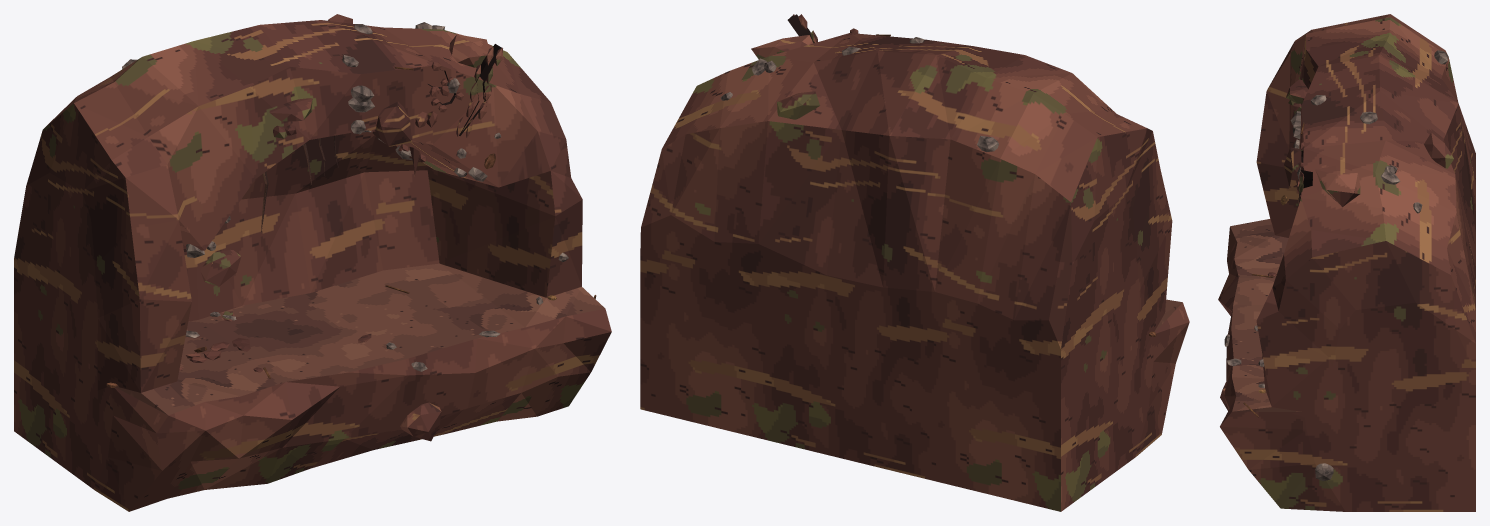
File: SM_AN05_EarthNiche.fbx
3 views of the same model, side by side, from view 1: azimuth 30°, elevation 25°; view 2: azimuth 150°, elevation 25°; view 3: azimuth 270°, elevation 25° (orthographic). The views are drawn at different scales.
Parts seen in each view (by area): view 1: AN05a_Earth, AN05a_Floor, AN05a_Props; view 2: AN05a_Earth, AN05a_Props; view 3: AN05a_Earth, AN05a_Floor, AN05a_Props.
Boxes of the visible parts, bbox=[...] form: AN05a_Earth: bbox=[14, 14, 611, 511]; AN05a_Floor: bbox=[115, 263, 604, 415]; AN05a_Props: bbox=[106, 22, 596, 387]; AN05a_Earth: bbox=[640, 14, 1189, 511]; AN05a_Props: bbox=[720, 14, 1156, 336]; AN05a_Earth: bbox=[1218, 14, 1475, 511]; AN05a_Floor: bbox=[1230, 219, 1301, 411]; AN05a_Props: bbox=[1224, 50, 1448, 481].
Bounding box in the file's own units: 3.08 × 2.56 × 1.72.
